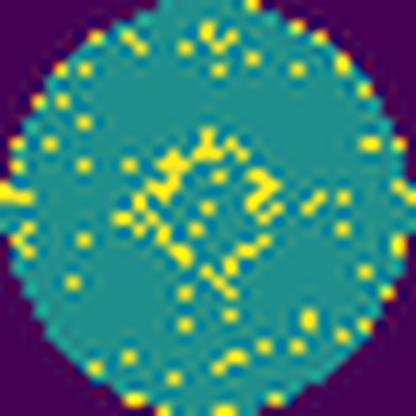Donut: (108, 115, 293, 305)
